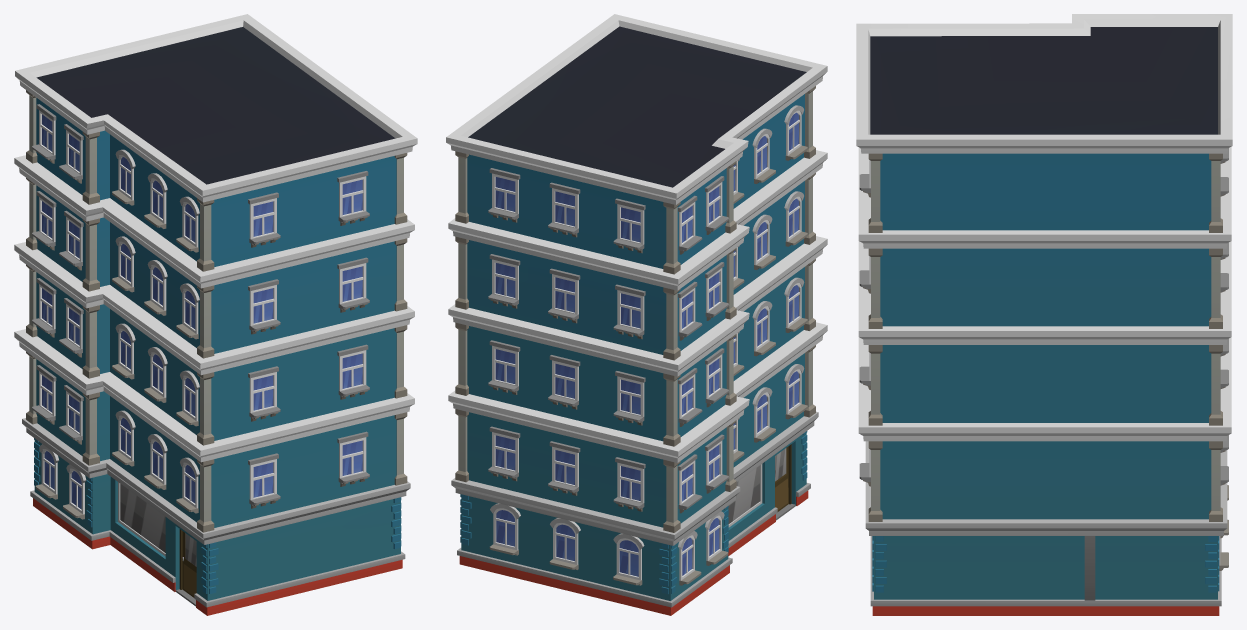
Rendered from Building_1_5_I.fbx.
3 renders of one model, left to right at view 1: azimuth 30°, elevation 25°; view 2: azimuth 150°, elevation 25°; view 3: azimuth 270°, elevation 25°, orthographic. The views are drawn at different scales.
Parts seen in each view (by area): view 1: Building_1_5_I; view 2: Building_1_5_I; view 3: Building_1_5_I.
Part boxes in pixels (x1,y1,x2,y2): Building_1_5_I: [14, 14, 417, 615]; Building_1_5_I: [446, 14, 827, 615]; Building_1_5_I: [856, 14, 1232, 615].
Size of the model in its own units: 847 by 1501 by 1067.
